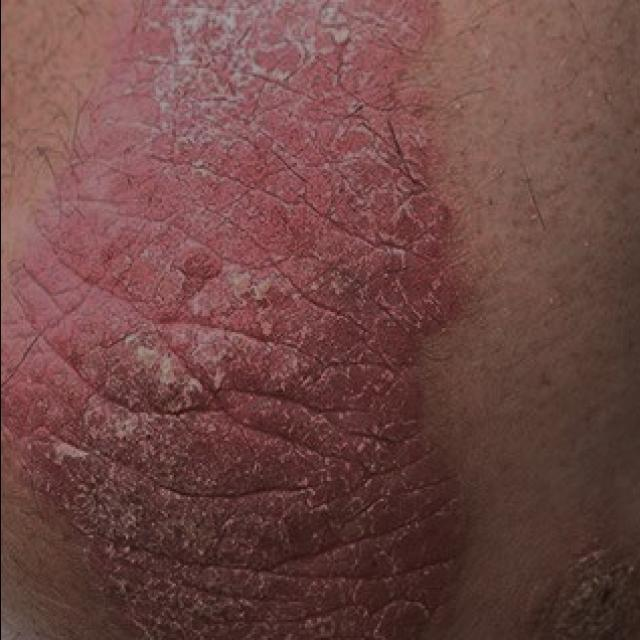Psoriasis: (0, 0, 479, 640)
